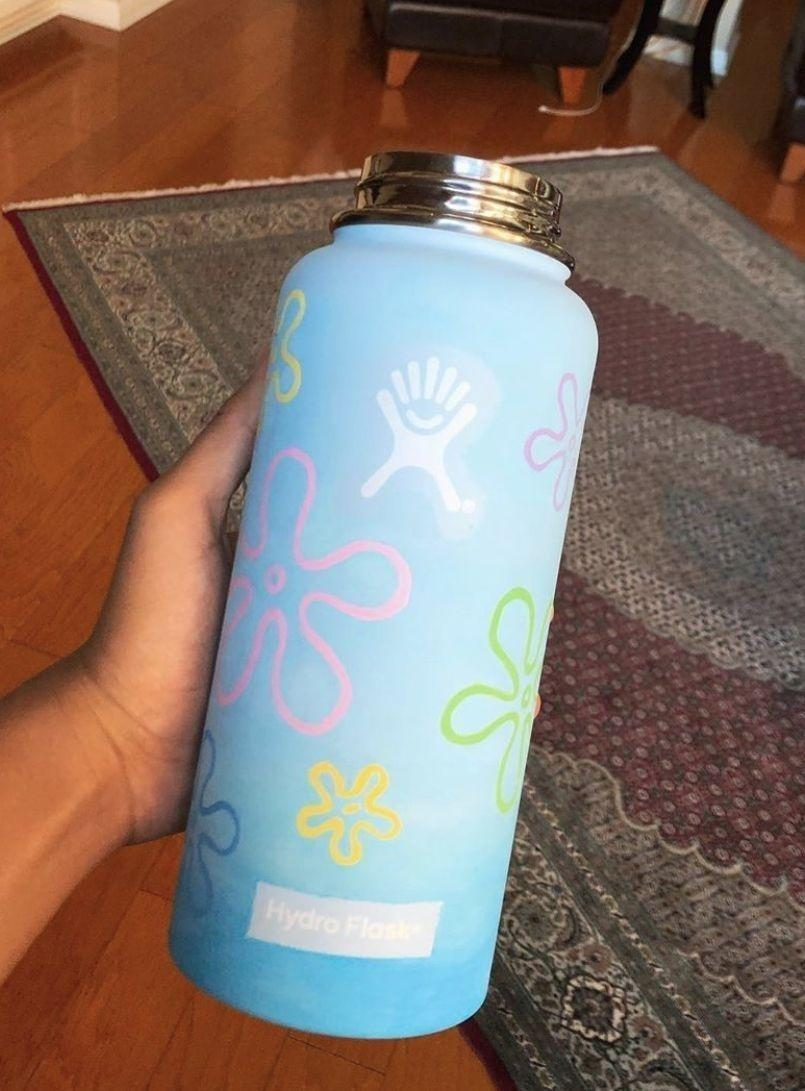gym bottle: (162, 154, 605, 1040)
